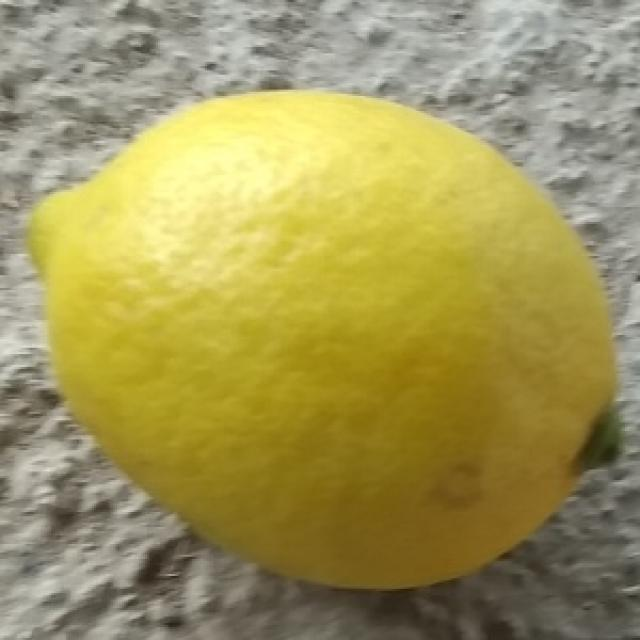Ripe: (25, 80, 640, 596)
